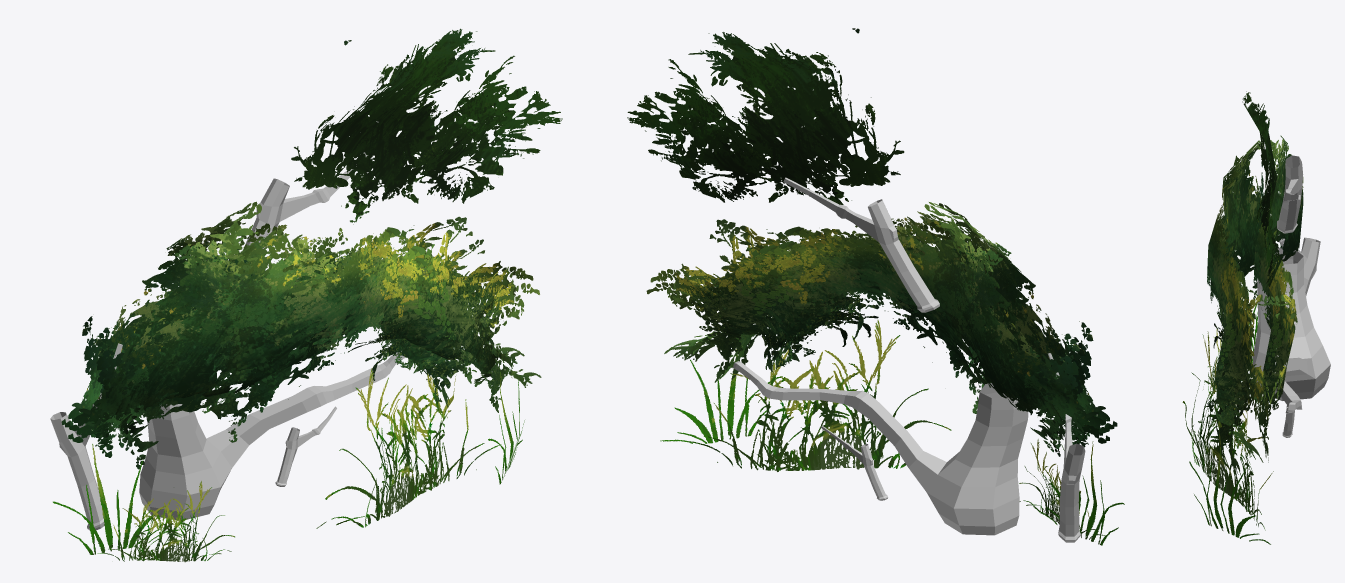
File: shu5.fbx
3 views of the same model, side by side, from view 1: azimuth 30°, elevation 25°; view 2: azimuth 150°, elevation 25°; view 3: azimuth 270°, elevation 25° (orthographic). The views are drawn at different scales.
Visible parts, largest first — view 1: shu5; view 2: shu5; view 3: shu5.
Part boxes in pixels (<box>): shu5: <box>50,28,562,562</box>; shu5: <box>627,28,1124,545</box>; shu5: <box>1182,91,1330,544</box>.
Size of the model in its own units: 746 by 634 by 193.
